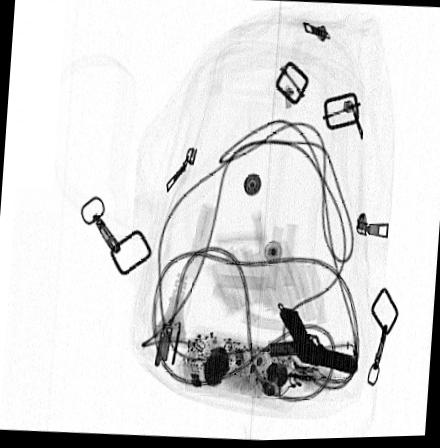Gun: (277, 310, 355, 377)
